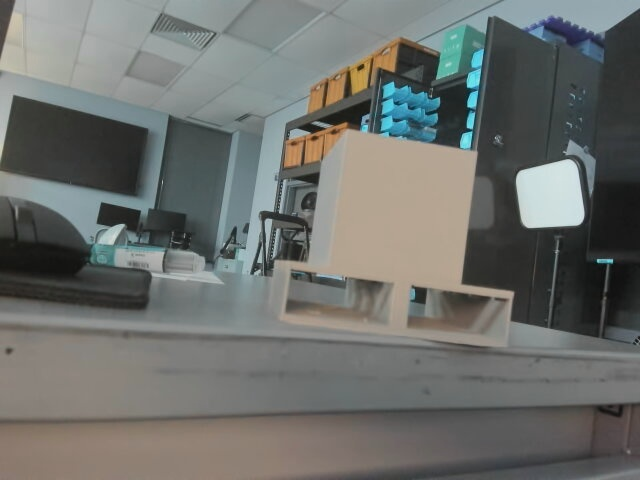grey pallet: (262, 128, 519, 352)
